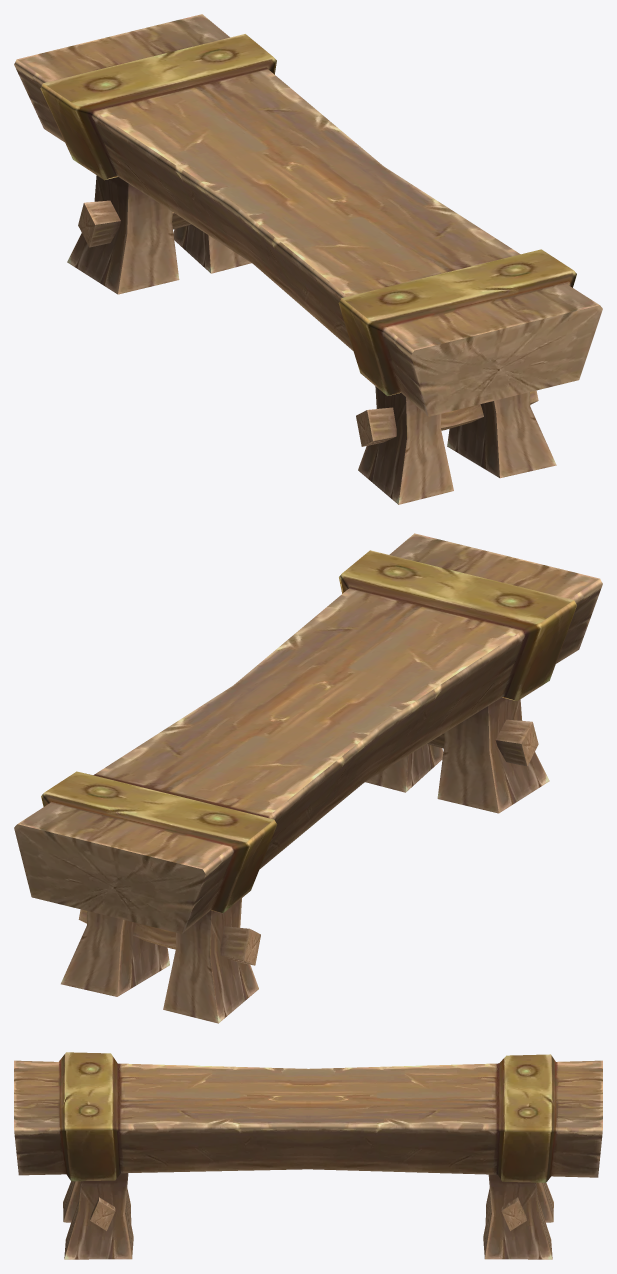
The picture shows the model from 3 angles, top to bottom: view 1: azimuth 30°, elevation 25°; view 2: azimuth 150°, elevation 25°; view 3: azimuth 270°, elevation 25°; orthographic projection. The views are drawn at different scales.
Bounding box in the file's own units: 0.7888 × 0.6782 × 2.58.
1 material, 1 textured.
